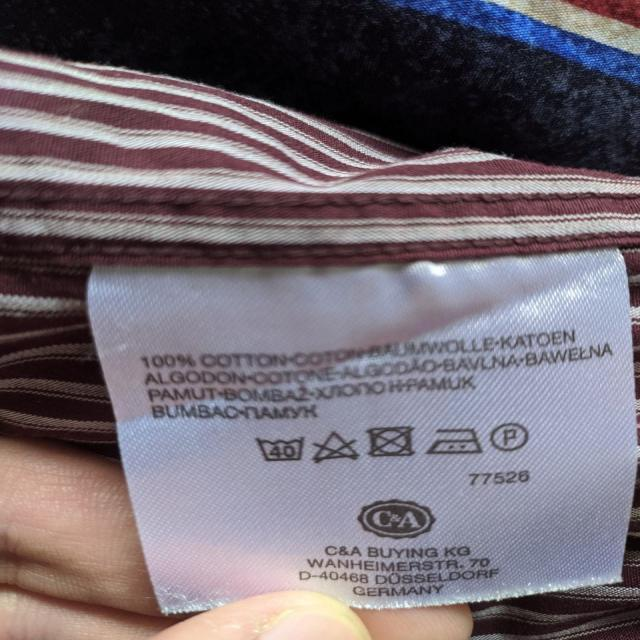40C: (255, 433, 306, 466)
DN_bleach: (311, 429, 359, 467)
DN_tumble_dry: (365, 423, 417, 462)
dry_clean_any_solvent_except_trichloroethylene: (488, 421, 531, 454)
iron_medium: (425, 423, 485, 460)
